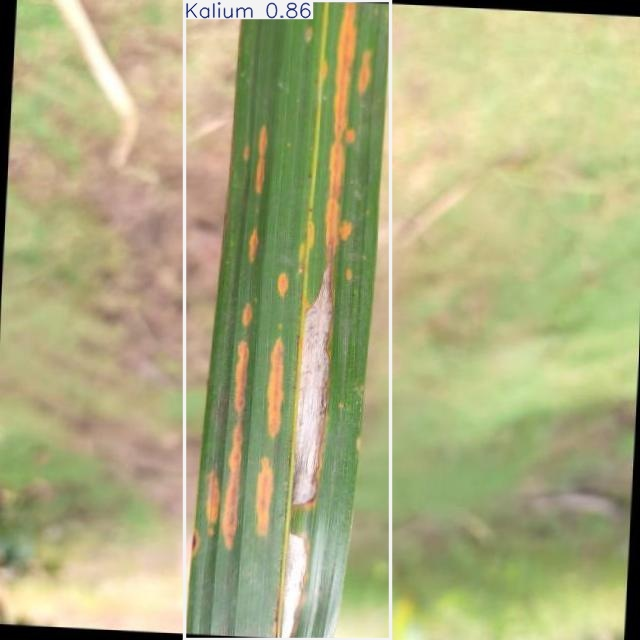Kalium: (185, 0, 391, 639)
